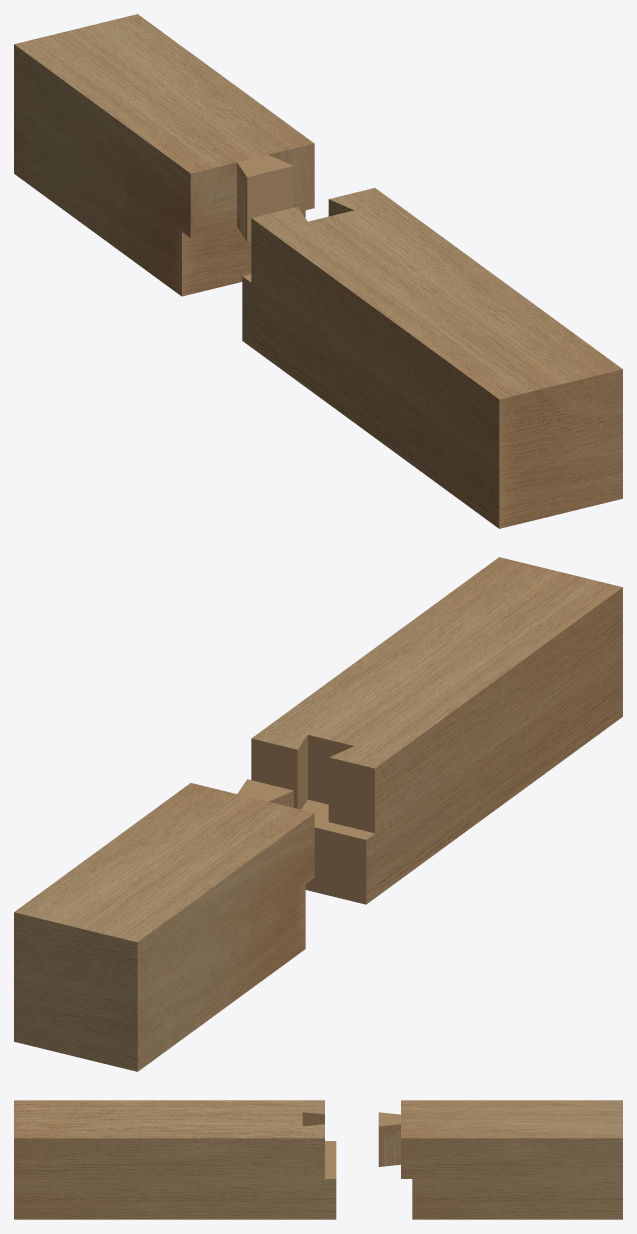
The model's file is Aritugi.fbx.
3 renders of one model, top to bottom at view 1: azimuth 30°, elevation 25°; view 2: azimuth 150°, elevation 25°; view 3: azimuth 270°, elevation 25°, orthographic. The views are drawn at different scales.
Parts seen in each view (by area): view 1: Shitaki, Uwaki; view 2: Shitaki, Uwaki; view 3: Shitaki, Uwaki.
Boxes of the visible parts, box(x1,y1,x2,y2) form: Shitaki: box(242, 188, 622, 528); Uwaki: box(14, 14, 314, 296); Shitaki: box(251, 557, 622, 904); Uwaki: box(14, 779, 314, 1071); Shitaki: box(14, 1100, 336, 1219); Uwaki: box(378, 1100, 622, 1219).
Bounding box in the file's own units: 0.1212 × 0.1212 × 0.8234.
Materials: 1 (1 with a texture image).
